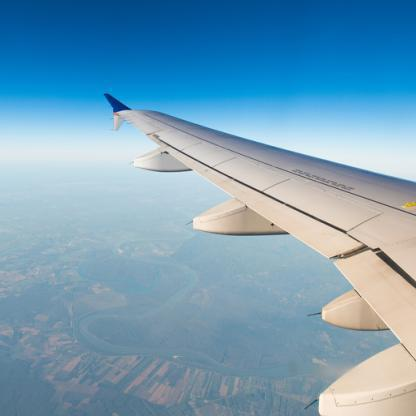CIV_Plane: (100, 85, 416, 409)
